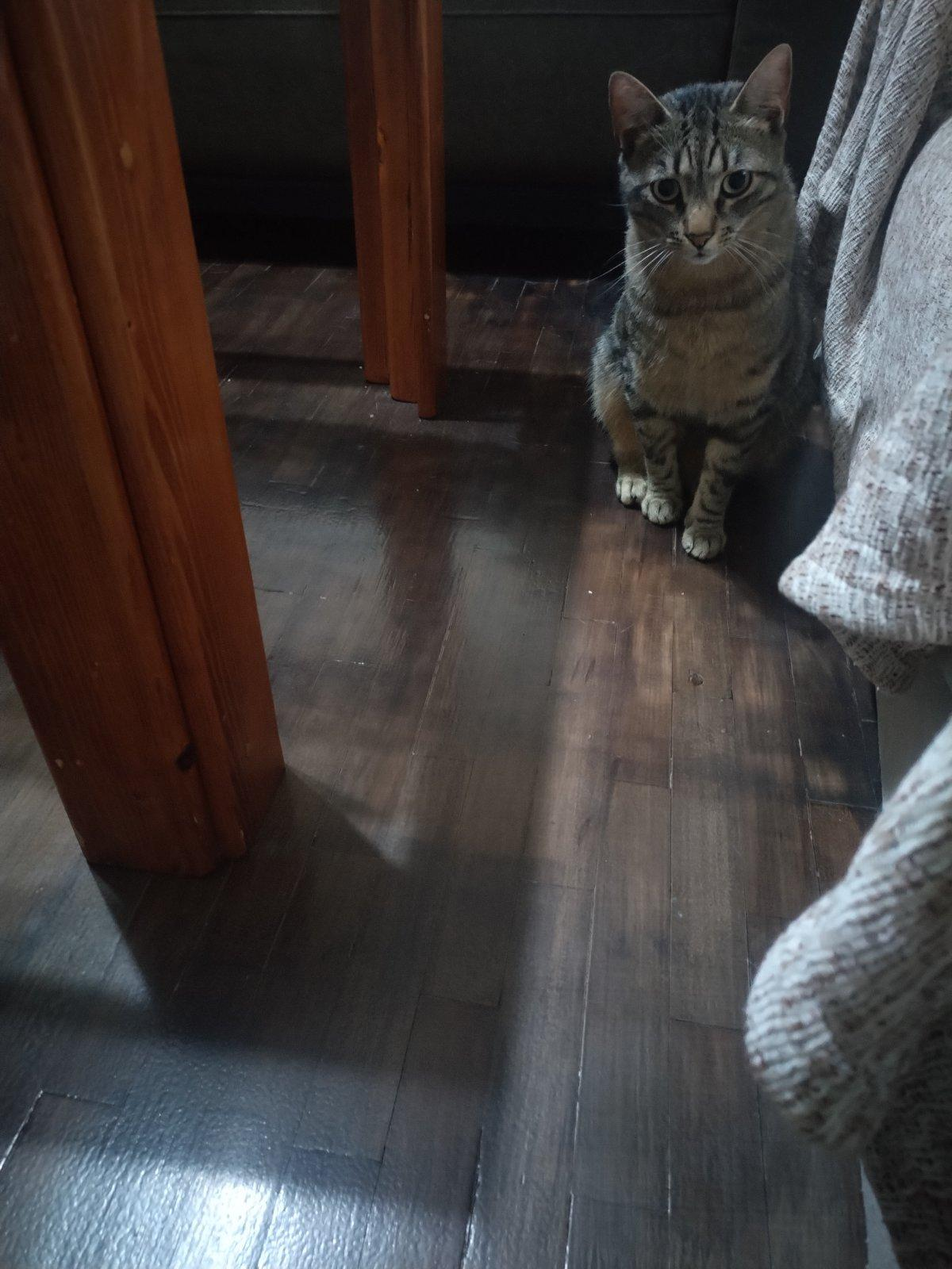macka: (587, 41, 831, 564)
